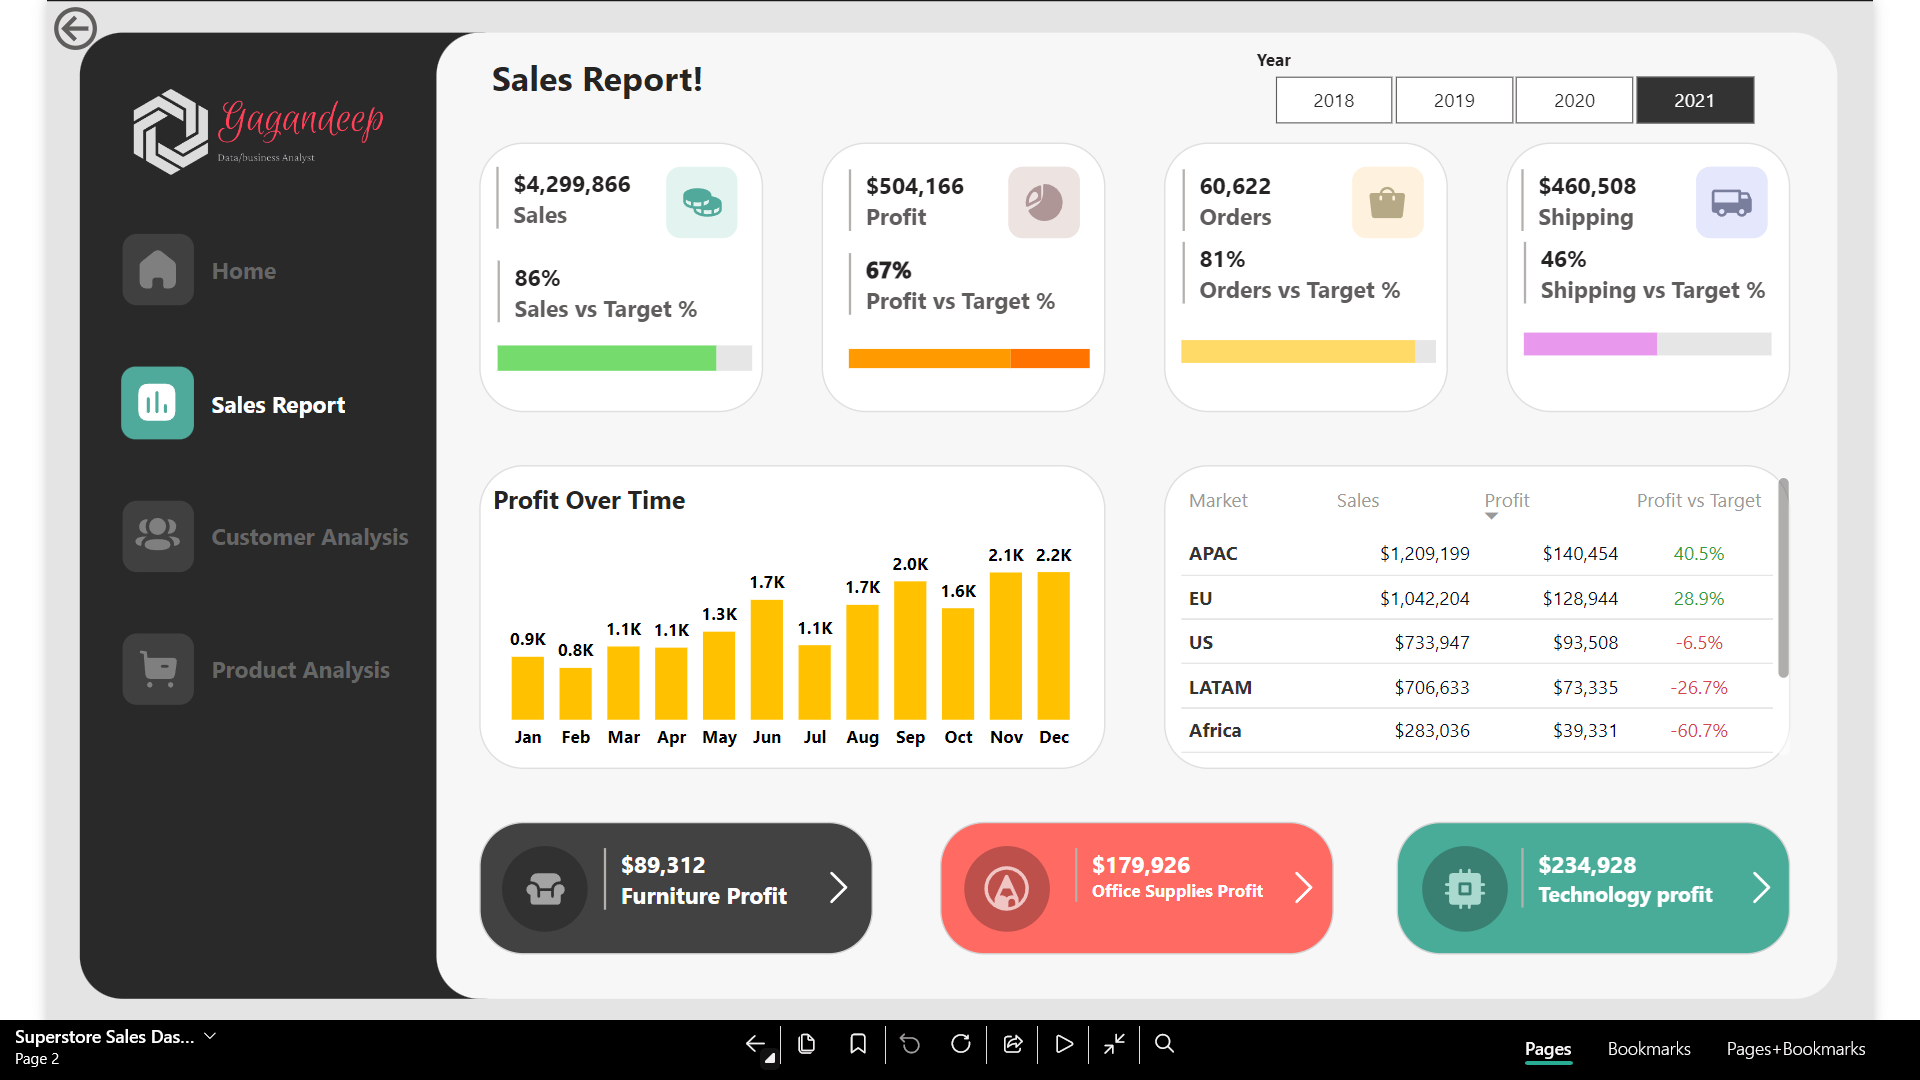

This screenshot's page, from the dashboard's own definition file:
{"tool":"powerbi","page":{"name":"Page 2","canvas":[1280,720],"ordinal":1},"visuals":[{"type":"textbox","box":[307,33.3,499.5,69.5],"z":0},{"type":"actionButton","box":[111.5,168,99.9,40.5],"z":1000},{"type":"actionButton","box":[111.5,262.1,149.1,40.5],"z":2000},{"type":"actionButton","box":[111.5,354.8,149.1,40.5],"z":3000},{"type":"actionButton","box":[111.5,447.4,149.1,40.5],"z":4000},{"type":"clusteredColumnChart","title":"Profit Over Time","fields":{"Category":["superstore.Month Name"],"Y":["superstore.Profit"]},"box":[307.5,337.7,428.1,196.6],"z":5000},{"type":"pivotTable","fields":{"Rows":["superstore.Market"],"Values":["superstore.Sales","superstore.Profit","superstore.Profit vs Target % Region"]},"box":[789.9,329.2,436.6,205],"z":6000},{"type":"actionButton","box":[0,0,100,40],"z":7000},{"type":"multiRowCard","fields":{"Values":["superstore.Profit"]},"box":[385.3,589.5,149.4,68.6],"z":8000},{"type":"multiRowCard","fields":{"Values":["superstore.Profit"]},"box":[715.7,589.5,149.4,68.6],"z":9000},{"type":"multiRowCard","fields":{"Values":["superstore.Profit"]},"box":[1028.3,589.5,149.4,68.6],"z":10000},{"type":"hundredPercentStackedBarChart","fields":{"Y":["superstore.Sales","superstore.Sales vs Target"]},"box":[311.2,193.3,187.8,109.7],"z":11000},{"type":"multiRowCard","fields":{"Values":["superstore.Sales"]},"box":[309.9,112.4,119.3,56.2],"z":12000},{"type":"multiRowCard","fields":{"Values":["superstore.Sales vs Target %"]},"box":[311.2,178.2,159,60.3],"z":13000},{"type":"image","box":[0,20.5,296.7,141.1],"z":14000},{"type":"multiRowCard","fields":{"Values":["superstore.Profit"]},"box":[556.6,113.8,112.4,64.4],"z":15000},{"type":"multiRowCard","fields":{"Values":["superstore.Profit vs Target %"]},"box":[556.6,172.8,159,65.8],"z":16000},{"type":"hundredPercentStackedBarChart","fields":{"Y":["superstore.Profit","superstore.Profit vs Target"]},"box":[556.6,213.9,178.2,68.6],"z":17000},{"type":"multiRowCard","fields":{"Values":["superstore.Quantity"]},"box":[791.1,113.8,164.5,54.8],"z":18000},{"type":"multiRowCard","fields":{"Values":["superstore.Orders vs Target %"]},"box":[791.1,164.5,164.5,57.6],"z":19000},{"type":"hundredPercentStackedBarChart","fields":{"Y":["superstore.Sales vs Target","superstore.Quantity"]},"box":[789.7,204.3,187.8,78.1],"z":20000},{"type":"multiRowCard","fields":{"Values":["superstore.Shipping Cost"]},"box":[1028.3,113.8,185.1,64.4],"z":21000},{"type":"multiRowCard","fields":{"Values":["superstore.Shipping vs Target %"]},"box":[1029.7,164.5,185.1,57.6],"z":22000},{"type":"hundredPercentStackedBarChart","fields":{"Y":["superstore.Shipping vs Target","superstore.Shipping Cost"]},"box":[1029.7,198.8,183.7,78.1],"z":23000},{"type":"slicer","fields":{"Values":["superstore.Year"]},"box":[835,28.8,385.3,64.4],"z":24000}]}

Visuals, with their boxes on the page's 1280x720 design canvas (x1, y1, x2, y2). These are canvas units, not pixel positions in the 1920x1080 screenshot, which may show the page scaled, cropped or inside an application window:
textbox: Rect(307, 33, 806, 103)
actionButton: Rect(112, 168, 211, 208)
actionButton: Rect(112, 262, 261, 303)
actionButton: Rect(112, 355, 261, 395)
actionButton: Rect(112, 447, 261, 488)
"Profit Over Time" clusteredColumnChart: Rect(308, 338, 736, 534)
pivotTable - superstore.Market x superstore.Sales: Rect(790, 329, 1226, 534)
actionButton: Rect(0, 0, 100, 40)
multiRowCard - superstore.Profit: Rect(385, 590, 535, 658)
multiRowCard - superstore.Profit: Rect(716, 590, 865, 658)
multiRowCard - superstore.Profit: Rect(1028, 590, 1178, 658)
hundredPercentStackedBarChart - superstore.Sales x superstore.Sales vs Target: Rect(311, 193, 499, 303)
multiRowCard - superstore.Sales: Rect(310, 112, 429, 169)
multiRowCard - superstore.Sales vs Target %: Rect(311, 178, 470, 238)
image: Rect(0, 20, 297, 162)
multiRowCard - superstore.Profit: Rect(557, 114, 669, 178)
multiRowCard - superstore.Profit vs Target %: Rect(557, 173, 716, 239)
hundredPercentStackedBarChart - superstore.Profit x superstore.Profit vs Target: Rect(557, 214, 735, 282)
multiRowCard - superstore.Quantity: Rect(791, 114, 956, 169)
multiRowCard - superstore.Orders vs Target %: Rect(791, 164, 956, 222)
hundredPercentStackedBarChart - superstore.Sales vs Target x superstore.Quantity: Rect(790, 204, 978, 282)
multiRowCard - superstore.Shipping Cost: Rect(1028, 114, 1213, 178)
multiRowCard - superstore.Shipping vs Target %: Rect(1030, 164, 1215, 222)
hundredPercentStackedBarChart - superstore.Shipping vs Target x superstore.Shipping Cost: Rect(1030, 199, 1213, 277)
slicer - superstore.Year: Rect(835, 29, 1220, 93)
